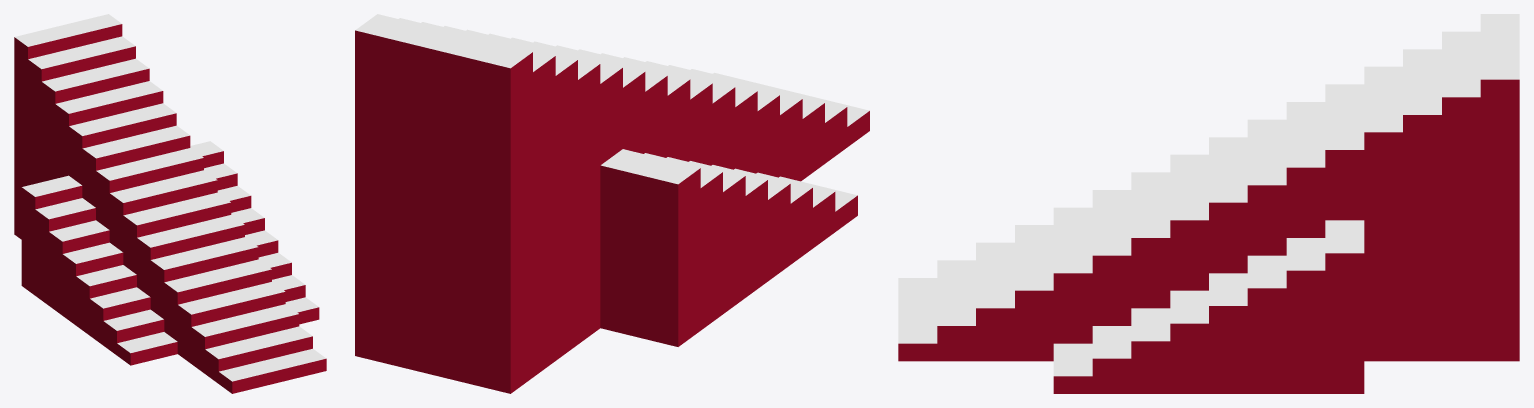
The model's file is ModularGrid_stairs.fbx.
The picture shows the model from 3 angles, left to right: view 1: azimuth 30°, elevation 25°; view 2: azimuth 150°, elevation 25°; view 3: azimuth 270°, elevation 25°; orthographic projection. The views are drawn at different scales.
Visible parts, largest first — view 1: stairs_1x4x2, stairs_2x2x1; view 2: stairs_1x4x2, stairs_2x2x1; view 3: stairs_1x4x2, stairs_2x2x1.
Boxes of the visible parts, x1,y1,x2,y2 form: stairs_1x4x2: (14,14,326,393); stairs_2x2x1: (21,141,319,365); stairs_1x4x2: (355,14,869,393); stairs_2x2x1: (600,149,857,346); stairs_1x4x2: (898,14,1519,361); stairs_2x2x1: (1053,220,1364,393).
Bounding box in the file's own units: 200 × 200 × 400.
